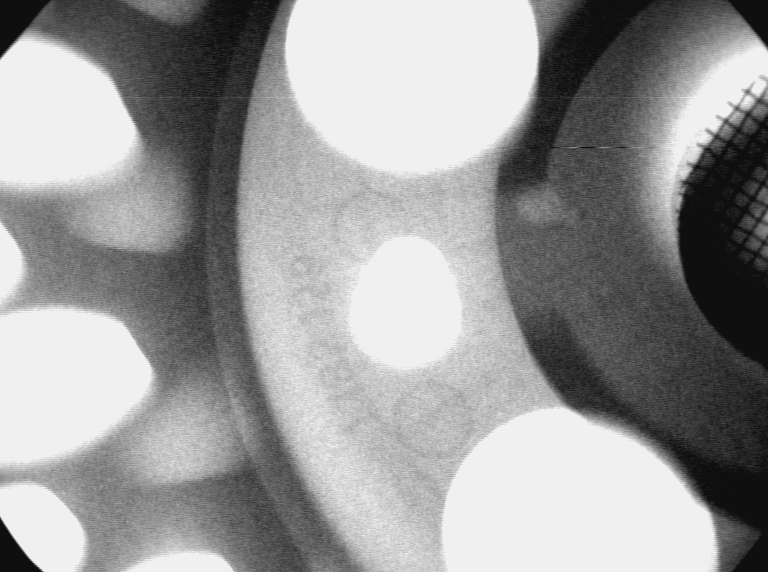defect: (521, 186, 580, 229)
